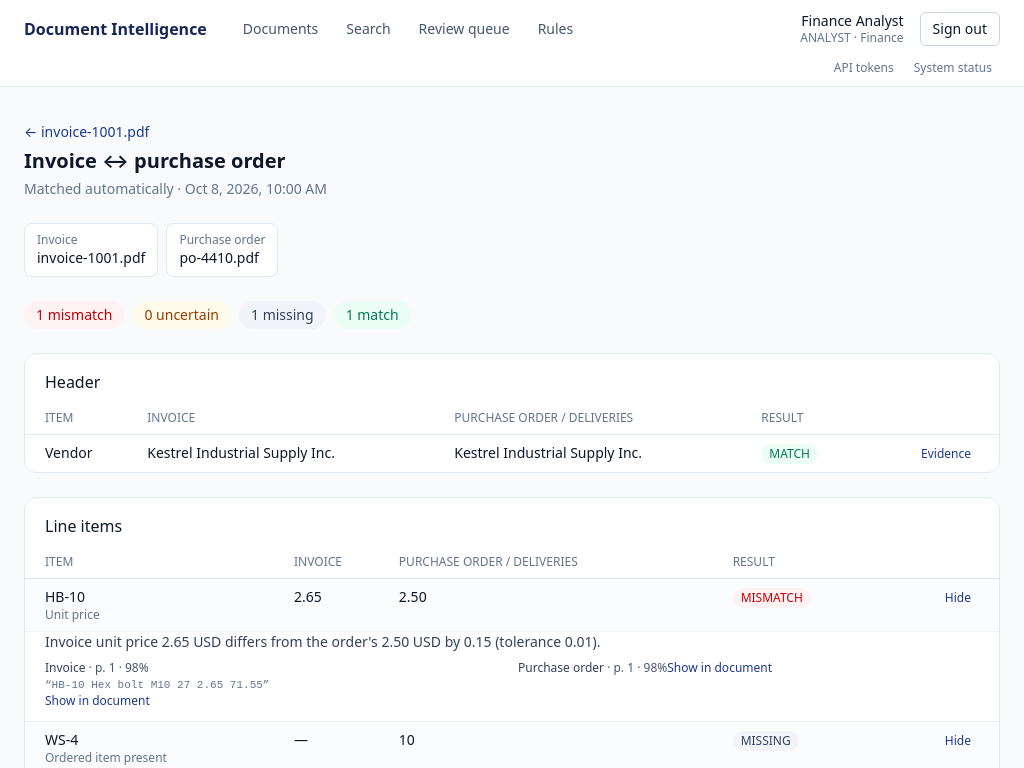
Test: comparison view › shows each check with its result, explanation and links to the evidence
Expected: the heading "Invoice ↔ purchase order" is shown, [24, 147, 286, 174]
Expected: the text "1 mismatch" is shown, [24, 301, 124, 329]
Click the button with aria-label "Evidence for Vendor": x=946, y=454 [913, 444, 979, 464]
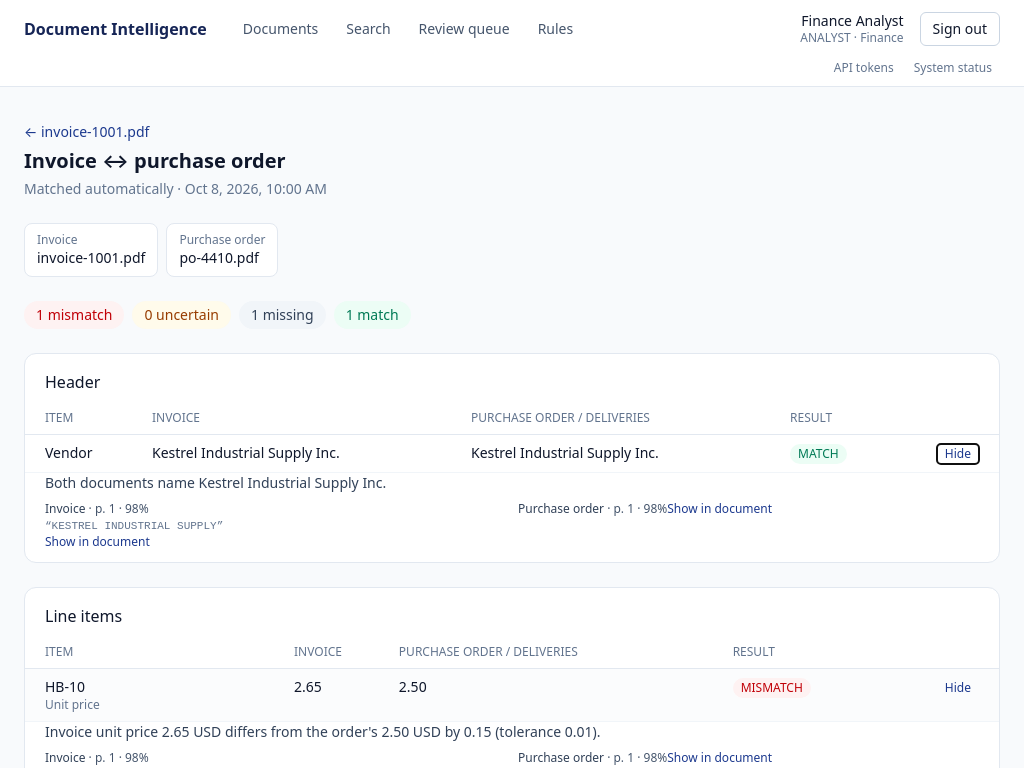
Result: the text "Both documents name Kestrel Industrial Supply Inc." is shown at [45, 473, 386, 492]
Result: the text "KESTREL INDUSTRIAL SUPPLY" is shown at [52, 520, 217, 532]
